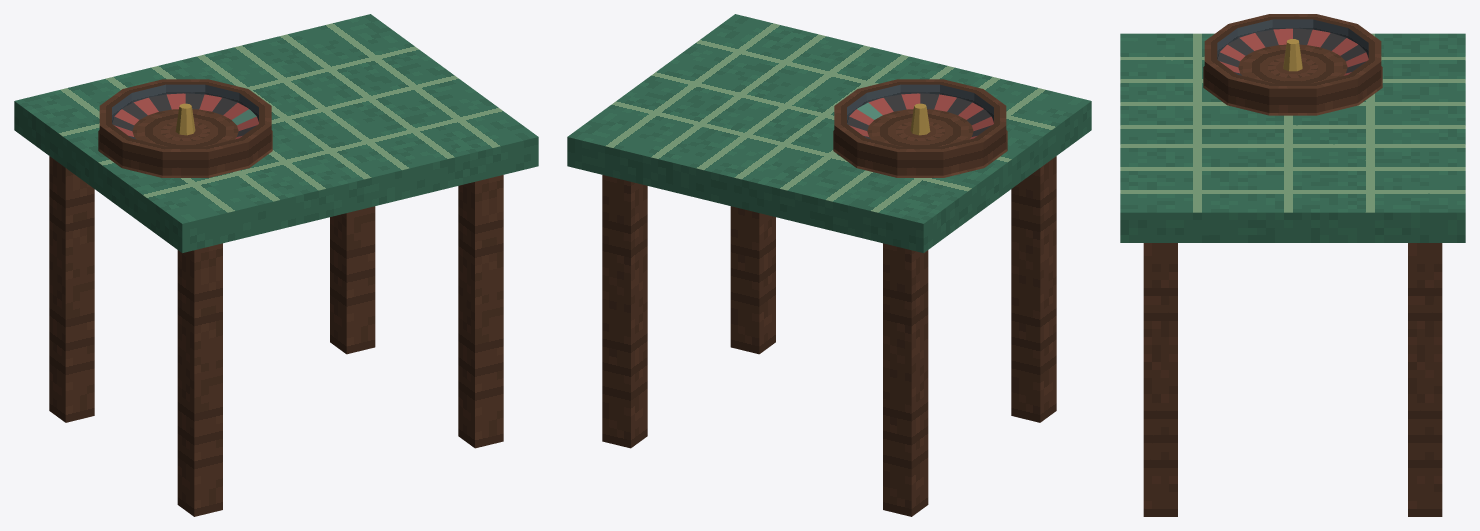
The model's file is f_roulette_table.glb.
3 renders of one model, left to right at view 1: azimuth 30°, elevation 25°; view 2: azimuth 150°, elevation 25°; view 3: azimuth 270°, elevation 25°, orthographic. The views are drawn at different scales.
Visible parts, largest first — view 1: block_felt-table, block_leg--0.386-0.306, block_leg-0.386-0.306, block_leg--0.386--0.306, block_leg-0.386--0.306, block_wheel-base, block_raised-wheel-rim-outer-3, block_raised-wheel-rim-outer-2, block_raised-wheel-rim-outer-4; view 2: block_felt-table, block_leg--0.386--0.306, block_leg-0.386--0.306, block_leg--0.386-0.306, block_leg-0.386-0.306, block_wheel-base, block_raised-wheel-rim-outer-7, block_raised-wheel-rim-outer-6, block_raised-wheel-rim-outer-8; view 3: block_felt-table, block_leg-0.386--0.306, block_leg-0.386-0.306, block_wheel-base, block_raised-wheel-rim-outer-11, block_raised-wheel-rim-outer-0, block_raised-wheel-rim-outer-10, block_raised-wheel-rim-outer-1, block_raised-wheel-rim-outer-9, block_brass-spindle, block_raised-wheel-rim-inner-5.
Part boxes in pixels (<box>): block_felt-table: <box>14,14,538,252</box>; block_leg--0.386-0.306: <box>177,243,222,516</box>; block_leg-0.386-0.306: <box>458,175,503,448</box>; block_leg--0.386--0.306: <box>49,156,94,422</box>; block_leg-0.386--0.306: <box>330,206,375,354</box>; block_wheel-base: <box>98,109,272,177</box>; block_raised-wheel-rim-outer-3: <box>162,152,208,175</box>; block_raised-wheel-rim-outer-2: <box>208,142,248,175</box>; block_raised-wheel-rim-outer-4: <box>122,142,162,175</box>; block_felt-table: <box>567,14,1091,252</box>; block_leg--0.386--0.306: <box>883,243,928,516</box>; block_leg-0.386--0.306: <box>602,175,647,448</box>; block_leg--0.386-0.306: <box>1011,156,1056,422</box>; block_leg-0.386-0.306: <box>730,206,775,354</box>; block_wheel-base: <box>833,109,1007,177</box>; block_raised-wheel-rim-outer-7: <box>897,152,943,175</box>; block_raised-wheel-rim-outer-6: <box>943,142,983,175</box>; block_raised-wheel-rim-outer-8: <box>857,142,897,175</box>; block_felt-table: <box>1120,33,1465,242</box>; block_leg-0.386--0.306: <box>1408,243,1442,516</box>; block_leg-0.386-0.306: <box>1143,243,1177,516</box>; block_wheel-base: <box>1203,44,1382,115</box>; block_raised-wheel-rim-outer-11: <box>1269,88,1316,112</box>; block_raised-wheel-rim-outer-0: <box>1228,79,1269,112</box>; block_raised-wheel-rim-outer-10: <box>1316,79,1357,112</box>; block_raised-wheel-rim-outer-1: <box>1204,62,1228,102</box>; block_raised-wheel-rim-outer-9: <box>1357,62,1381,102</box>; block_brass-spindle: <box>1283,39,1302,71</box>; block_raised-wheel-rim-inner-5: <box>1272,19,1313,29</box>.
Size of the model in its own units: 0.98 by 0.899 by 0.8.
Materials: 1 (1 with a texture image).
